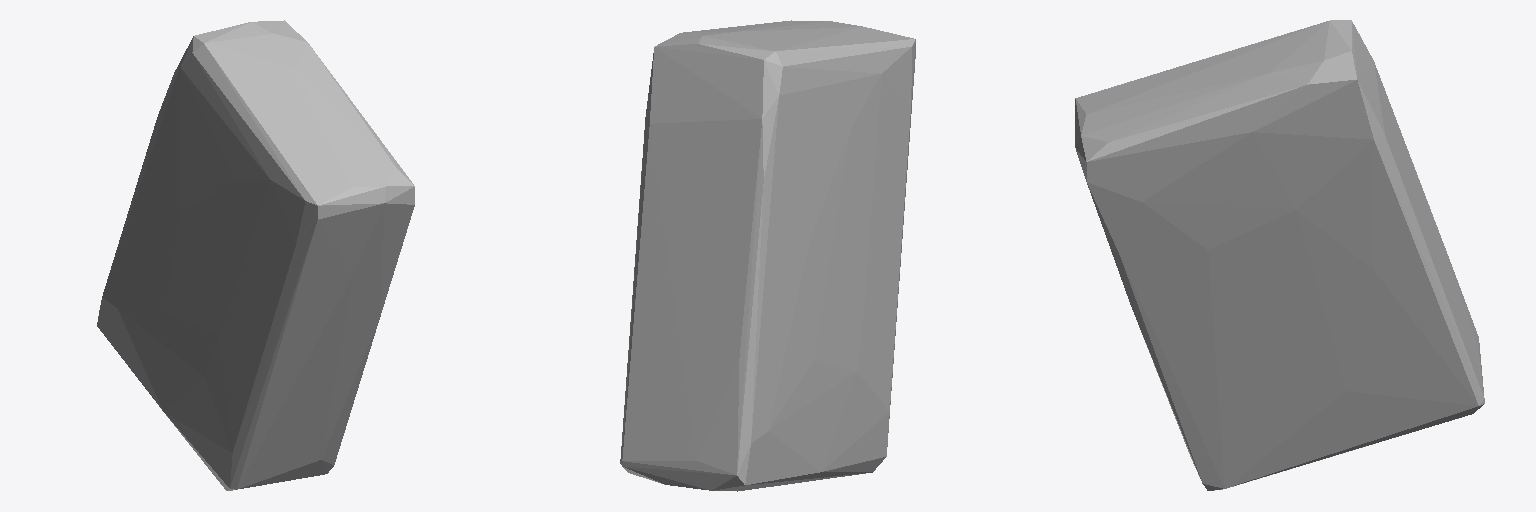
The robot description file, URDF, robot "root":
<robot name="root">
  <link name="link_kit~CoughDropsBerries_800_tex_convex_piece_0">
    <inertial>
      <origin rpy="0 0 0" xyz="0 0 0"/>
      <mass value="2.49E+00"/>
      <inertia ixx="6.45E-03" ixy="-1.38E-04" ixz="3.40E-04" iyy="4.55E-03" iyz="-6.11E-04" izz="2.94E-03"/>
    </inertial>
    <visual>
      <origin rpy="0 0 0" xyz="0 0 0"/>
      <geometry>
        <mesh filename="kit~CoughDropsBerries_800_tex_convex_piece_0.obj" scale="1.0000E+00 1.0000E+00 1.0000E+00"/>
      </geometry>
      <material name="">
        <color rgba="7.50E-01 7.50E-01 7.50E-01 1"/>
      </material>
    </visual>
    <collision>
      <origin rpy="0 0 0" xyz="0 0 0"/>
      <geometry>
        <mesh filename="kit~CoughDropsBerries_800_tex_convex_piece_0.obj" scale="1.0000E+00 1.0000E+00 1.0000E+00"/>
      </geometry>
    </collision>
  </link>
</robot>

--- What the picture shows (computed from the rendered views, not written in the file) ---
3 views of the same robot in one strip: view 1: azimuth 30°, elevation 25°; view 2: azimuth 150°, elevation 25°; view 3: azimuth 270°, elevation 25° (orthographic).
Model root with 1 links and 0 joints (none), rooted at link_kit~CoughDropsBerries_800_tex_convex_piece_0, posed every joint at zero.
Visible links, largest first — view 1: link_kit~CoughDropsBerries_800_tex_convex_piece_0; view 2: link_kit~CoughDropsBerries_800_tex_convex_piece_0; view 3: link_kit~CoughDropsBerries_800_tex_convex_piece_0.
Link boxes in pixels (box(x1,y1,x2,y2)): link_kit~CoughDropsBerries_800_tex_convex_piece_0: box(97, 20, 414, 490); link_kit~CoughDropsBerries_800_tex_convex_piece_0: box(620, 20, 915, 491); link_kit~CoughDropsBerries_800_tex_convex_piece_0: box(1075, 20, 1484, 490).
Size in the robot's own frame: 0.0594 by 0.1418 by 0.1668 metres.
Meshes: 1 distinct files referenced, 1 mesh visuals loaded (1 OBJ).
